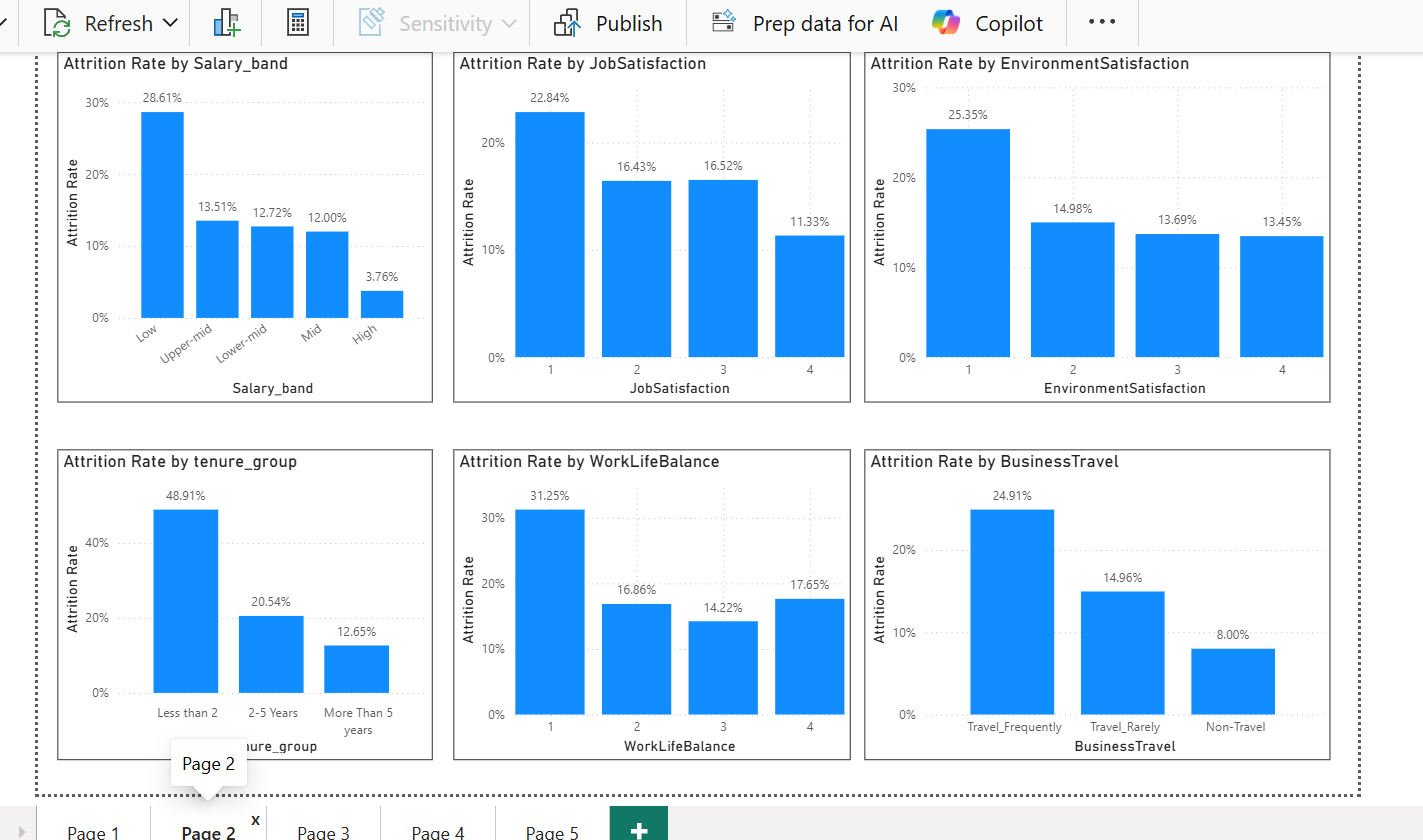

The page's visual inventory and layout, read from the dashboard file:
{"tool":"powerbi","page":{"name":"Page 2","canvas":[1280,720],"ordinal":1},"visuals":[{"type":"clusteredColumnChart","fields":{"Y":["employees.Attrition Rate"],"Category":["employees.Salary_band"]},"box":[19.4,0,364.3,340],"z":0},{"type":"clusteredColumnChart","fields":{"Category":["employees.tenure_group"],"Y":["employees.Attrition Rate"]},"box":[19.4,385.4,364.3,301.2],"z":1000},{"type":"clusteredColumnChart","fields":{"Category":["employees.JobSatisfaction"],"Y":["employees.Attrition Rate"]},"box":[403.2,0,385.4,340],"z":2000},{"type":"clusteredColumnChart","fields":{"Category":["employees.WorkLifeBalance"],"Y":["employees.Attrition Rate"]},"box":[403.2,385.4,385.4,301.2],"z":3000},{"type":"clusteredColumnChart","fields":{"Category":["employees.EnvironmentSatisfaction"],"Y":["employees.Attrition Rate"]},"box":[801.5,0,451.8,340],"z":4000},{"type":"clusteredColumnChart","fields":{"Category":["employees.BusinessTravel"],"Y":["employees.Attrition Rate"]},"box":[801.5,385.4,451.8,301.2],"z":5000}]}

Visuals, with their boxes on the page's 1280x720 design canvas (x1, y1, x2, y2). These are canvas units, not pixel positions in the 1423x840 screenshot, which may show the page scaled, cropped or inside an application window:
clusteredColumnChart - employees.Attrition Rate x employees.Salary_band: [left=19, top=0, right=384, bottom=340]
clusteredColumnChart - employees.tenure_group x employees.Attrition Rate: [left=19, top=385, right=384, bottom=687]
clusteredColumnChart - employees.JobSatisfaction x employees.Attrition Rate: [left=403, top=0, right=789, bottom=340]
clusteredColumnChart - employees.WorkLifeBalance x employees.Attrition Rate: [left=403, top=385, right=789, bottom=687]
clusteredColumnChart - employees.EnvironmentSatisfaction x employees.Attrition Rate: [left=802, top=0, right=1253, bottom=340]
clusteredColumnChart - employees.BusinessTravel x employees.Attrition Rate: [left=802, top=385, right=1253, bottom=687]
